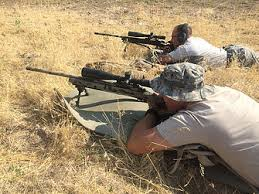Gun: (40, 64, 154, 108), (92, 24, 172, 50)
